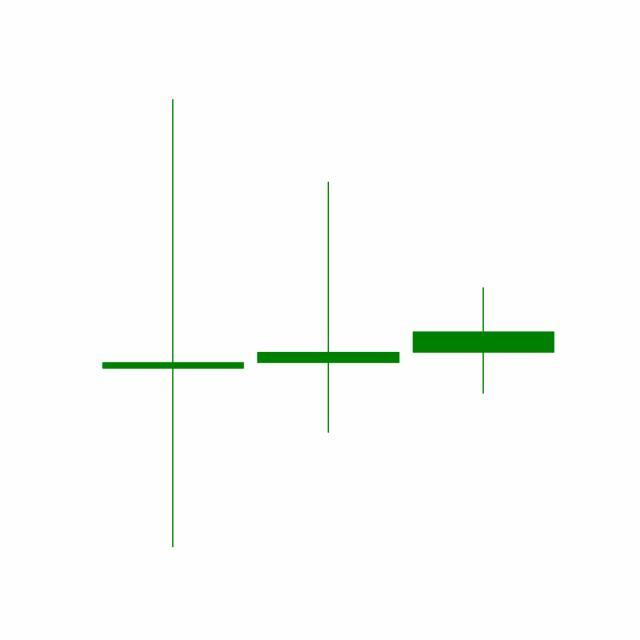Spinning Top: (250, 180, 407, 436)
